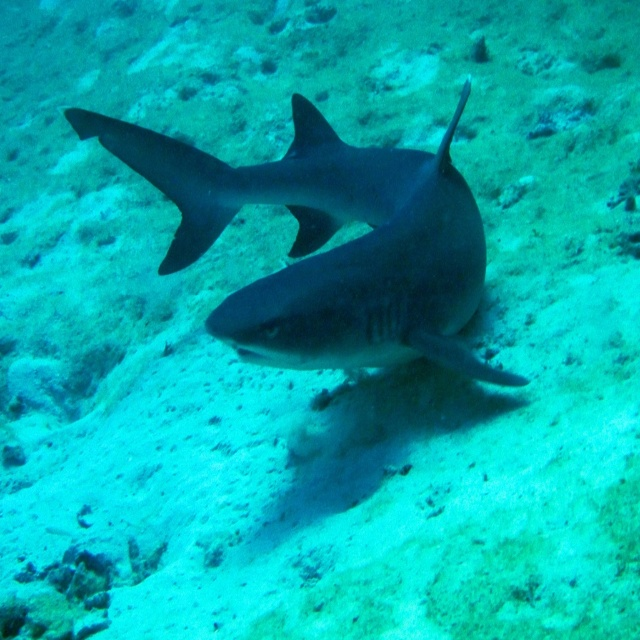Shark: (60, 73, 532, 391)
